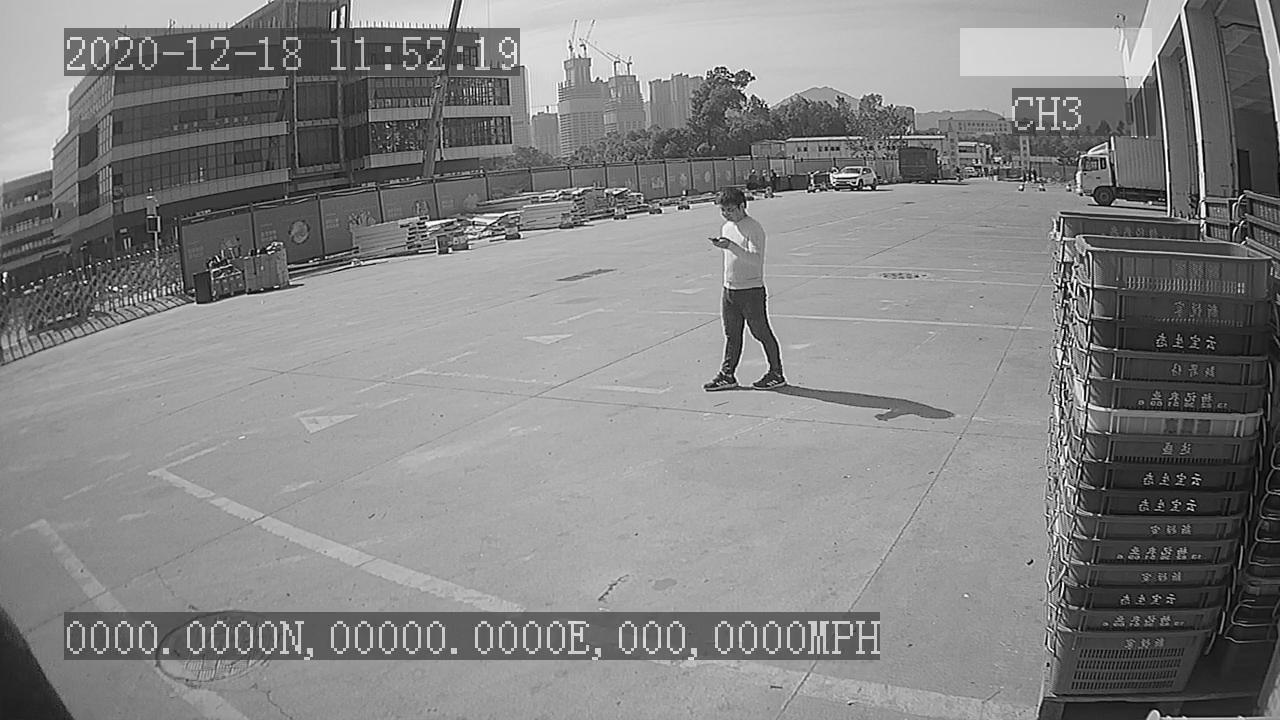person: (697, 179, 788, 395)
